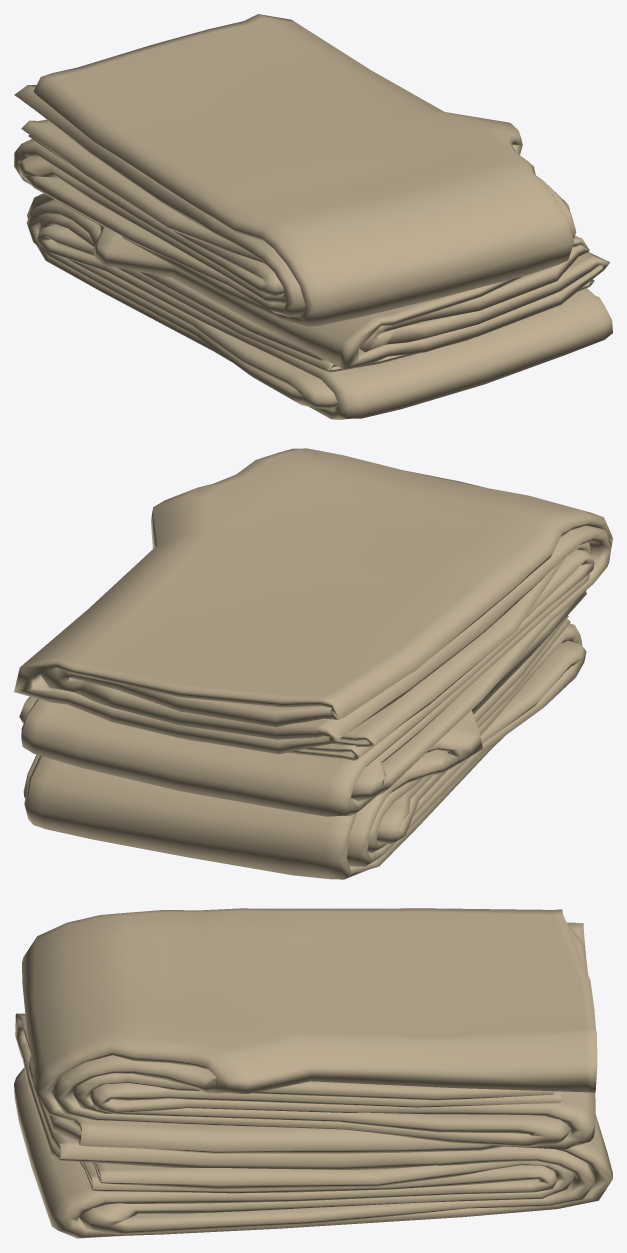
The model's file is Folded_Pant17.fbx.
The picture shows the model from 3 angles, top to bottom: view 1: azimuth 30°, elevation 25°; view 2: azimuth 150°, elevation 25°; view 3: azimuth 270°, elevation 25°; orthographic projection. The views are drawn at different scales.
Parts seen in each view (by area): view 1: Folded_Pant17; view 2: Folded_Pant17; view 3: Folded_Pant17.
Boxes of the visible parts, x1=… form: Folded_Pant17: x1=14, y1=14, x2=612, y2=419; Folded_Pant17: x1=14, y1=448, x2=612, y2=879; Folded_Pant17: x1=14, y1=908, x2=612, y2=1238.
Size of the model in its own units: 25.78 by 11.41 by 35.19.
Materials: 1 (1 with a texture image).
